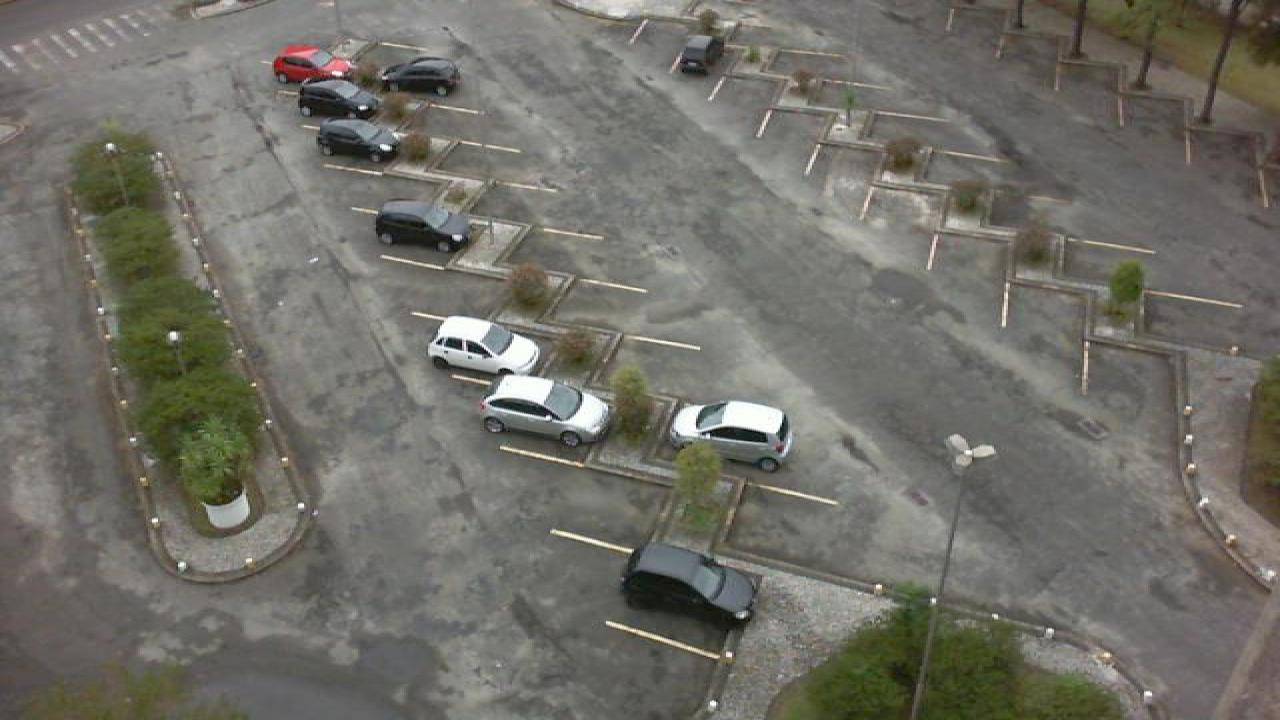Car: (620, 542, 760, 626), (478, 373, 612, 448), (668, 400, 792, 472), (426, 316, 542, 380), (374, 199, 474, 253), (316, 118, 400, 162), (272, 45, 358, 87), (378, 56, 464, 96), (296, 80, 380, 120), (674, 32, 726, 76)
